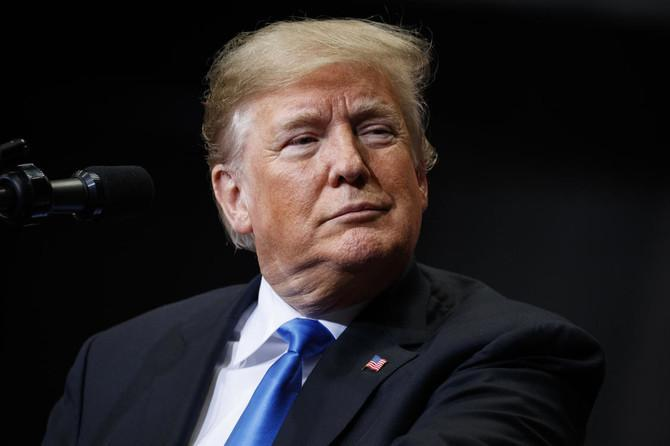Sober: (257, 74, 414, 263)
